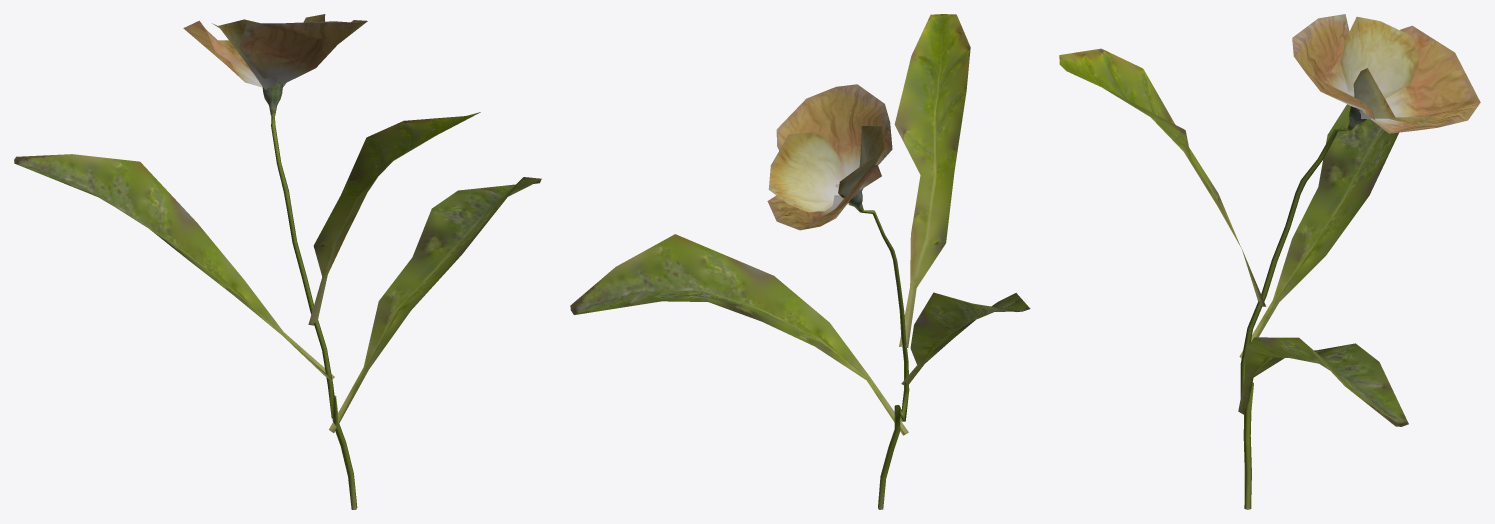
Rendered from Poppy_baby_short_yellowgreen.glb.
3 views of the same model, side by side, from view 1: azimuth 30°, elevation 25°; view 2: azimuth 150°, elevation 25°; view 3: azimuth 270°, elevation 25° (orthographic). The views are drawn at different scales.
Parts seen in each view (by area): view 1: baby poppy; view 2: baby poppy; view 3: baby poppy.
Boxes of the visible parts, x1,y1,x2,y2 form: baby poppy: (14,14,541,509); baby poppy: (570,14,1030,509); baby poppy: (1059,14,1480,509).
Size of the model in its own units: 1.32 by 1.17 by 0.9442.
1 material, 1 textured.
